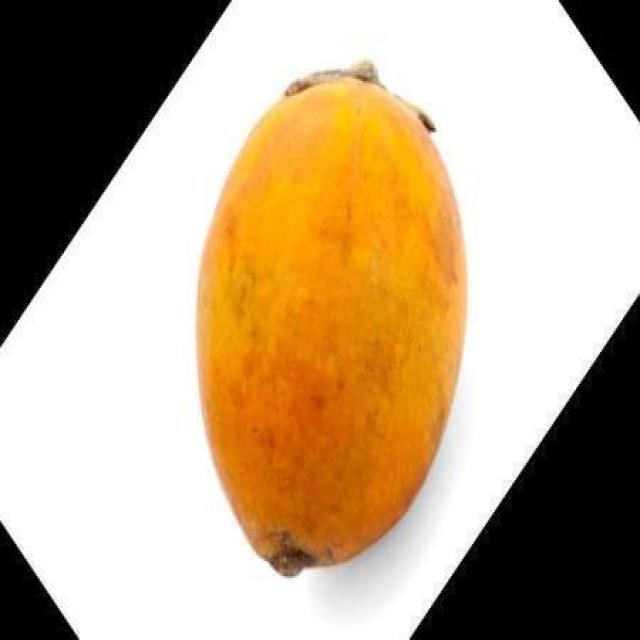good: (198, 73, 464, 572)
